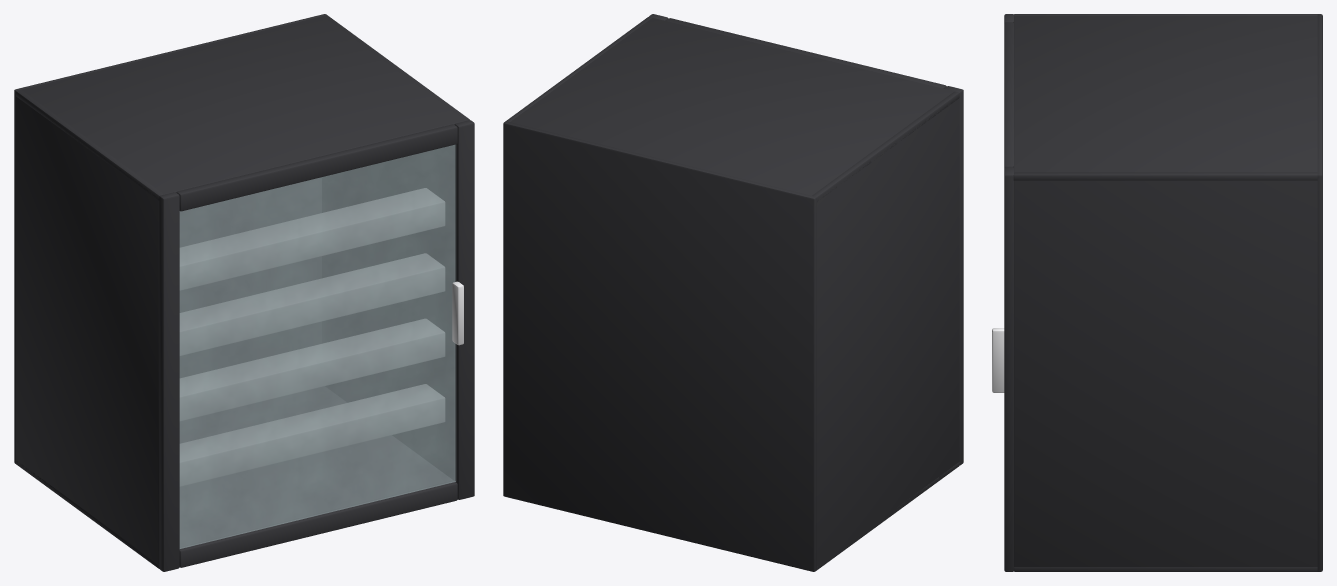
The model's file is ELE-LOG-002_lod1.glb.
3 renders of one model, left to right at view 1: azimuth 30°, elevation 25°; view 2: azimuth 150°, elevation 25°; view 3: azimuth 270°, elevation 25°, orthographic. The views are drawn at different scales.
Parts seen in each view (by area): view 1: ELE-LOG-002_vidro, ELE-LOG-002_lado-1, ELE-LOG-002_tb0.618, ELE-LOG-002_tb0, ELE-LOG-002_lado1, ELE-LOG-002_fundo, ELE-LOG-002_painel2, ELE-LOG-002_painel0, ELE-LOG-002_painel3, ELE-LOG-002_painel1, ELE-LOG-002_porta_v-1, ELE-LOG-002_porta_v1 (+3 smaller); view 2: ELE-LOG-002_fundo, ELE-LOG-002_lado-1, ELE-LOG-002_tb0.618, ELE-LOG-002_porta_v-1, ELE-LOG-002_porta_h0.6, ELE-LOG-002_lado1; view 3: ELE-LOG-002_lado1, ELE-LOG-002_tb0.618, ELE-LOG-002_porta_v1, ELE-LOG-002_fundo, ELE-LOG-002_tb0, ELE-LOG-002_porta_h0.6, ELE-LOG-002_puxador, ELE-LOG-002_lado-1.
Part boxes in pixels (x1,y1,x2,y2): ELE-LOG-002_vidro: (179,144,455,548); ELE-LOG-002_lado-1: (16,90,163,563); ELE-LOG-002_tb0.618: (16,16,469,200); ELE-LOG-002_tb0: (16,386,453,568); ELE-LOG-002_lado1: (322,15,469,479); ELE-LOG-002_fundo: (14,14,326,463); ELE-LOG-002_painel2: (180,253,444,355); ELE-LOG-002_painel0: (180,384,444,486); ELE-LOG-002_painel3: (180,188,444,290); ELE-LOG-002_painel1: (180,319,444,420); ELE-LOG-002_porta_v-1: (159,192,179,571); ELE-LOG-002_porta_v1: (454,120,474,499); ELE-LOG-002_fundo: (503,121,816,571); ELE-LOG-002_lado-1: (812,91,959,568); ELE-LOG-002_tb0.618: (505,18,959,201); ELE-LOG-002_porta_v-1: (944,86,963,465); ELE-LOG-002_porta_h0.6: (666,18,946,88); ELE-LOG-002_lado1: (506,17,652,121); ELE-LOG-002_lado1: (1014,172,1317,566); ELE-LOG-002_tb0.618: (1013,16,1317,180); ELE-LOG-002_porta_v1: (1004,167,1013,571); ELE-LOG-002_fundo: (1317,14,1322,571); ELE-LOG-002_tb0: (1013,567,1317,571); ELE-LOG-002_porta_h0.6: (1004,22,1013,168); ELE-LOG-002_puxador: (992,328,1004,392); ELE-LOG-002_lado-1: (1014,14,1317,15).
Size of the model in its own units: 0.55 by 0.63 by 0.475.
4 materials, 1 textured.
